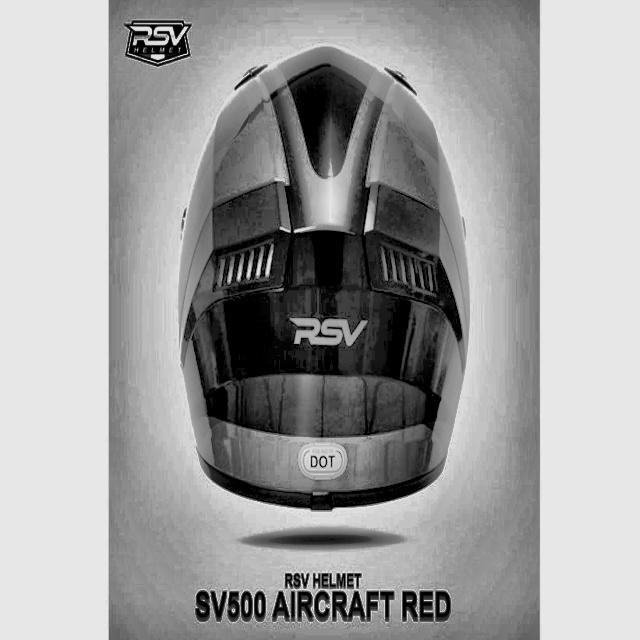Helmet: (176, 48, 479, 525)
